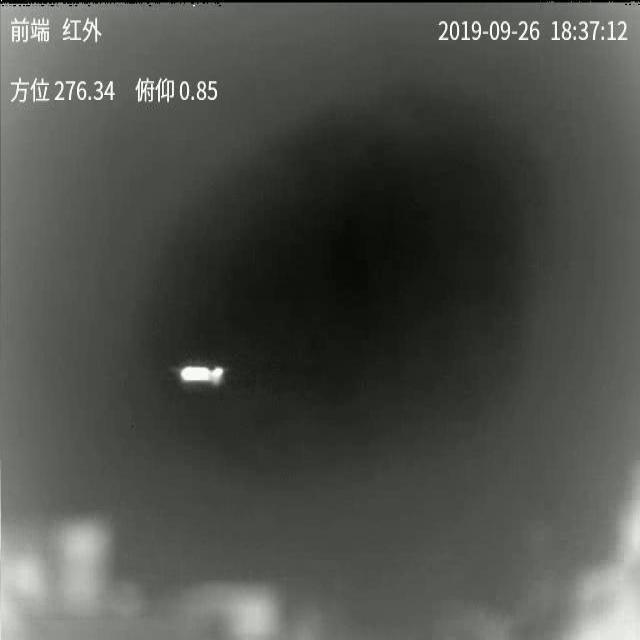drone: (181, 366, 224, 386)
